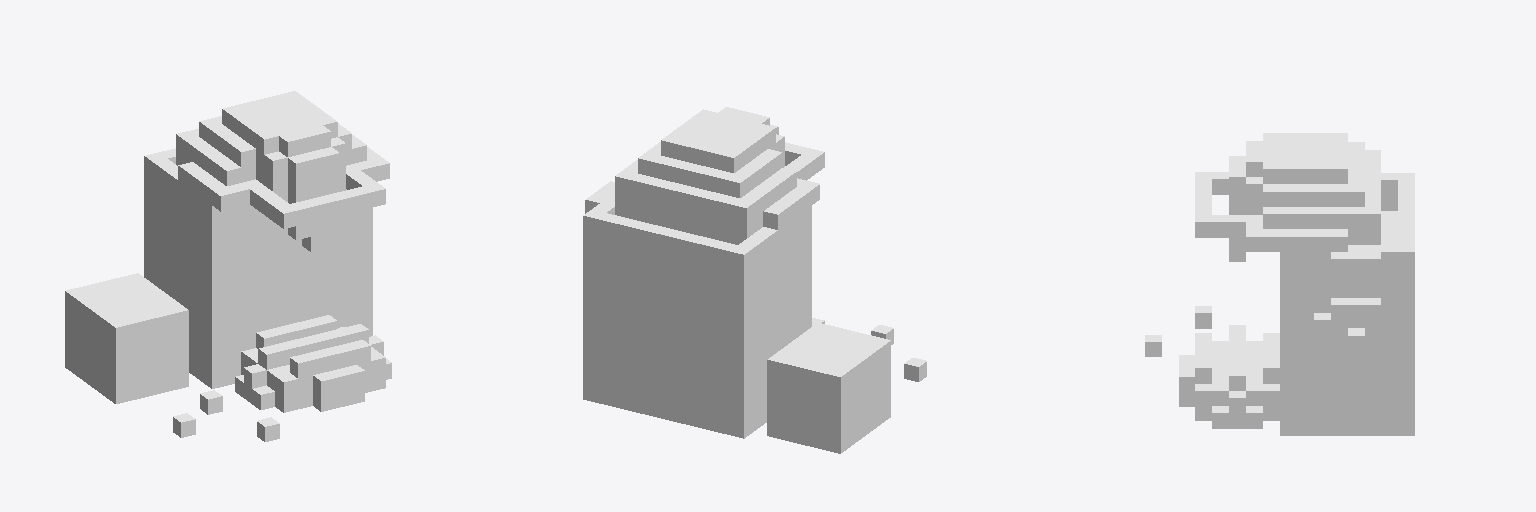
File: coffeem.obj
The picture shows the model from 3 angles: view 1: azimuth 30°, elevation 25°; view 2: azimuth 150°, elevation 25°; view 3: azimuth 270°, elevation 25°; orthographic projection.
Size of the model in its own units: 0.9 by 0.8 by 0.8.